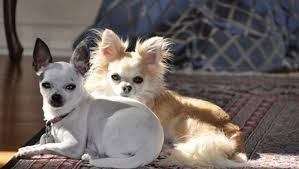Bulldog: (18, 40, 96, 164), (95, 36, 167, 99)
